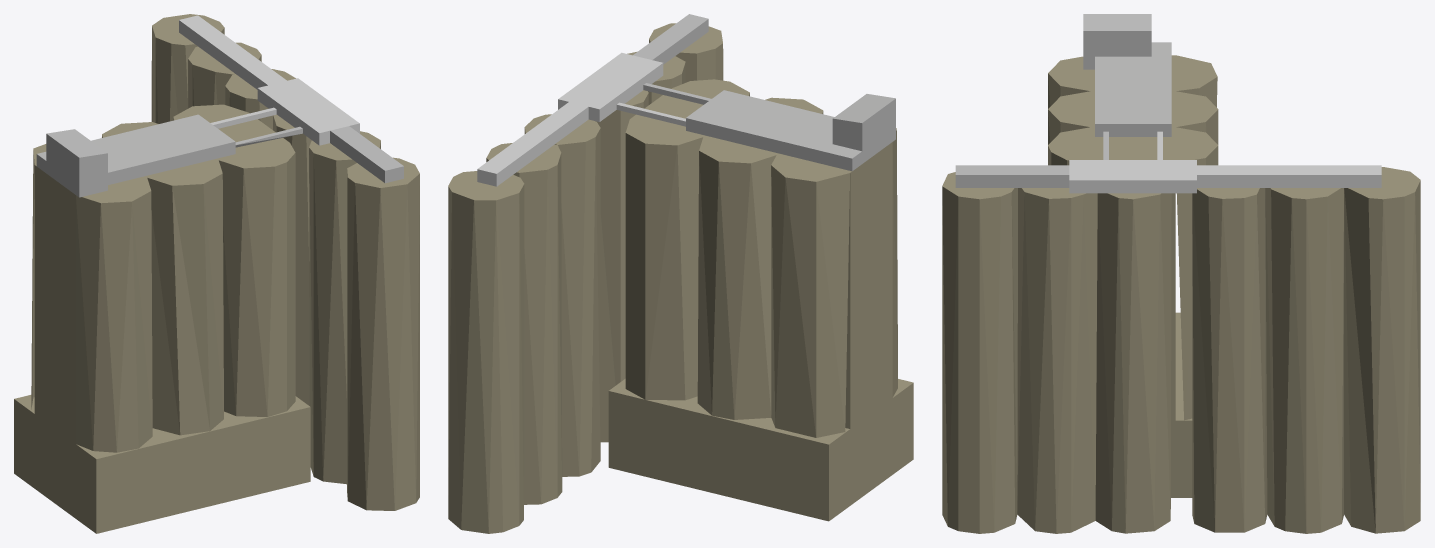
Rendered from silo-cluster.lod2.glb.
3 views of the same model, side by side, from view 1: azimuth 30°, elevation 25°; view 2: azimuth 150°, elevation 25°; view 3: azimuth 270°, elevation 25° (orthographic). The views are drawn at different scales.
Parts seen in each view (by area): view 1: Cube_Material.001_0; view 2: Cube_Material.001_0; view 3: Cube_Material.001_0.
Boxes of the visible parts, x1,y1,x2,y2 form: Cube_Material.001_0: [14, 14, 419, 533]; Cube_Material.001_0: [448, 14, 913, 533]; Cube_Material.001_0: [942, 14, 1420, 533].
Bounding box in the file's own units: 24.66 × 30 × 34.62.
